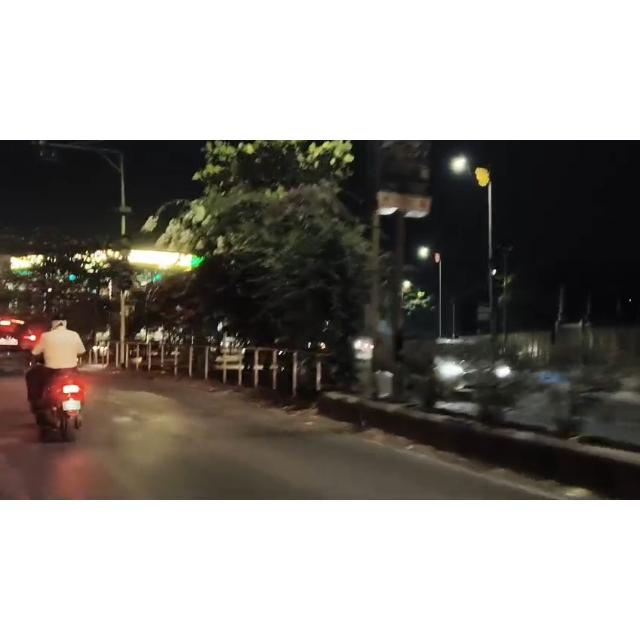car: (394, 331, 530, 406), (2, 315, 41, 377)
